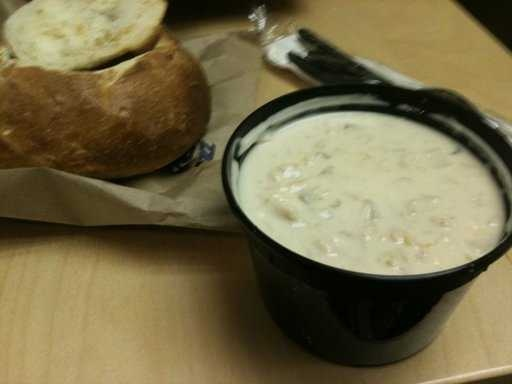soup: (218, 79, 501, 289)
